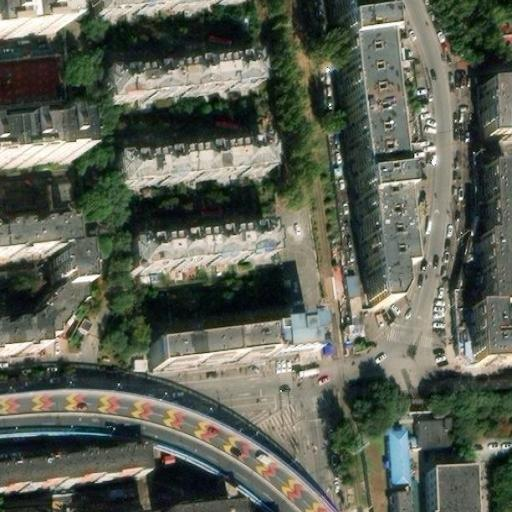building: (342, 36, 409, 299), (115, 116, 273, 172), (99, 31, 262, 84), (0, 446, 151, 494), (128, 208, 273, 254), (474, 171, 507, 311), (33, 260, 86, 344), (0, 117, 83, 166), (138, 329, 253, 363), (0, 217, 81, 259), (250, 321, 307, 365), (471, 318, 512, 367), (423, 467, 467, 512), (475, 93, 512, 146), (387, 425, 413, 486), (163, 498, 252, 512), (413, 421, 452, 450), (389, 491, 405, 512)
